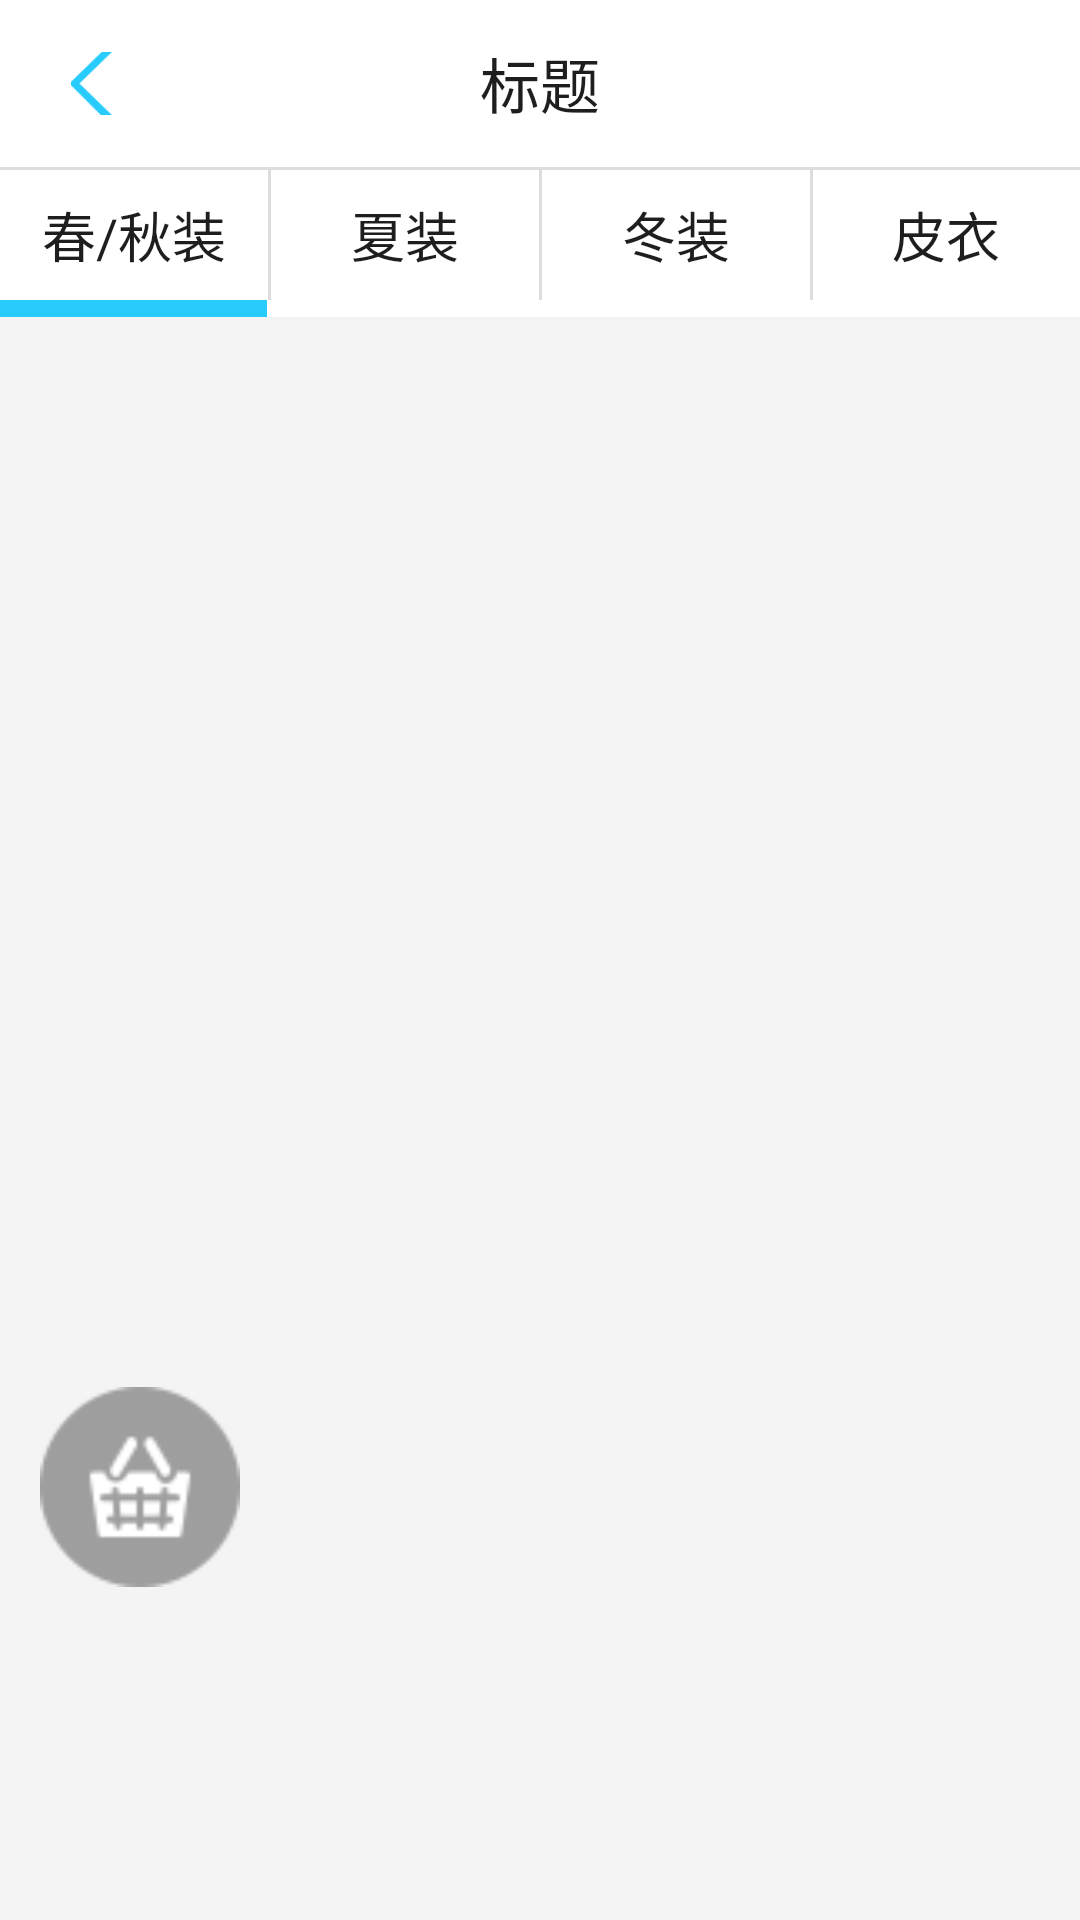

Icon bounding boxes for this 1080 × 1920 phone screenshot, format bbox=[x1, y1, x2, y2]:
pop basket: bbox=[40, 1387, 240, 1587]
